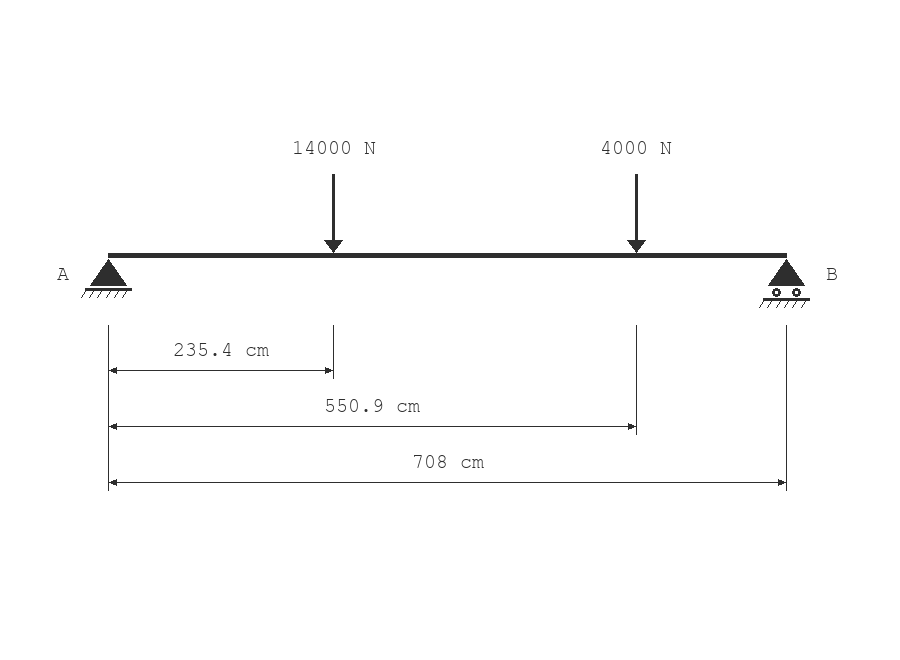pin_support: (81, 259, 132, 298)
point_load: (324, 174, 343, 253), (627, 174, 646, 253)
roller_support: (759, 259, 810, 308)
